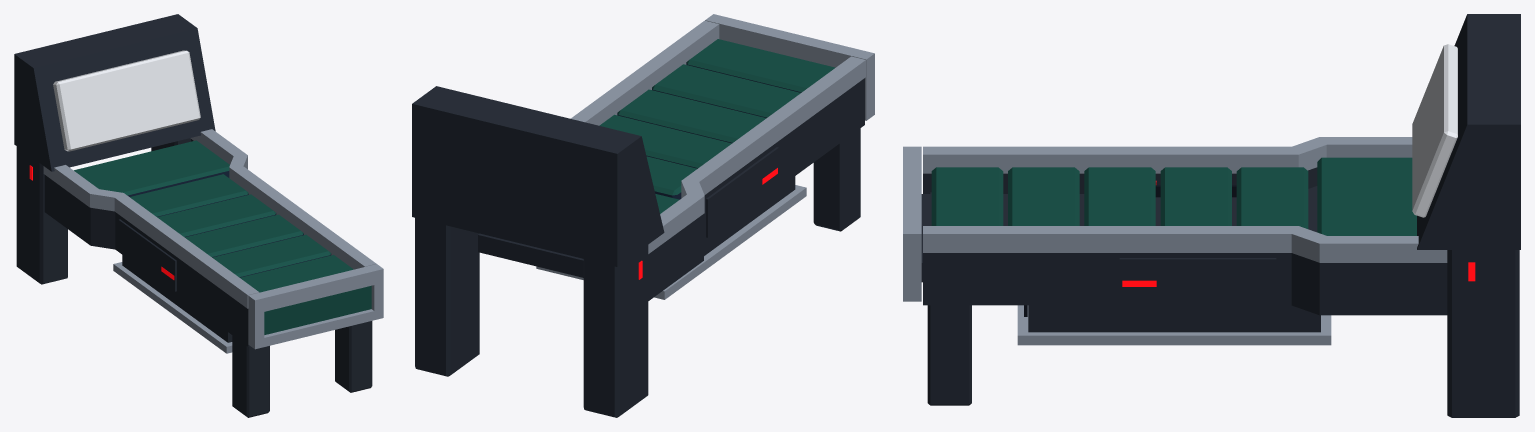
File: stasis_v3_normal.glb
3 renders of one model, left to right at view 1: azimuth 30°, elevation 25°; view 2: azimuth 150°, elevation 25°; view 3: azimuth 270°, elevation 25°, orthographic. The views are drawn at different scales.
Parts seen in each view (by area): view 1: Stasis_Head_Backplate, Stasis_Head_White_Plate, Stasis_Continuous_Fascia_-1, Stasis_Foot_Frame, Stasis_Level_Rail_-1, Stasis_Mattress_Head, Stasis_Leg.001, Stasis_Level_Rail_1, Stasis_Leg, Stasis_Mattress_Pad_01, Stasis_Mattress_Pad_03, Stasis_Mattress_Pad_02 (+7 smaller); view 2: Stasis_Head_Backplate, Stasis_Leg.001, Stasis_Leg.003, Stasis_Continuous_Fascia_-1, Stasis_Level_Rail_-1, Stasis_Mattress_Pad_02, Stasis_Mattress_Pad_01, Stasis_Mattress_Pad_00, Stasis_Foot_Frame, Stasis_Leg, Stasis_Level_Rail_1, Stasis_Mattress_Pad_03 (+5 smaller); view 3: Stasis_Continuous_Fascia_1, Stasis_Head_Backplate, Stasis_Level_Rail_1, Stasis_Leg.003, Stasis_Level_Rail_-1, Stasis_Underbody_Module, Stasis_Mattress_Head, Stasis_Service_Panel_1, Stasis_Head_White_Plate, Stasis_Underbody_Tray, Stasis_Leg.002, Stasis_Mattress_Pad_04 (+7 smaller).
Part boxes in pixels (x1,y1,x2,y2): Stasis_Head_Backplate: (14, 14, 215, 171); Stasis_Head_White_Plate: (53, 50, 200, 151); Stasis_Continuous_Fascia_-1: (44, 175, 250, 346); Stasis_Foot_Frame: (248, 264, 383, 349); Stasis_Level_Rail_-1: (43, 165, 259, 308); Stasis_Mattress_Head: (74, 140, 229, 196); Stasis_Leg.001: (16, 146, 67, 284); Stasis_Level_Rail_1: (190, 129, 376, 269); Stasis_Leg: (232, 335, 269, 417); Stasis_Mattress_Pad_01: (212, 234, 331, 277); Stasis_Mattress_Pad_03: (157, 194, 276, 237); Stasis_Mattress_Pad_02: (185, 214, 303, 257); Stasis_Head_Backplate: (412, 86, 664, 266); Stasis_Leg.001: (583, 245, 648, 417); Stasis_Leg.003: (415, 218, 479, 376); Stasis_Continuous_Fascia_-1: (648, 78, 864, 300); Stasis_Level_Rail_-1: (648, 56, 865, 253); Stasis_Mattress_Pad_02: (617, 89, 766, 143); Stasis_Mattress_Pad_01: (652, 64, 800, 117); Stasis_Mattress_Pad_00: (686, 39, 835, 92); Stasis_Foot_Frame: (705, 14, 874, 120); Stasis_Leg: (813, 128, 860, 231); Stasis_Level_Rail_1: (570, 20, 719, 125); Stasis_Mattress_Pad_03: (599, 114, 731, 168); Stasis_Continuous_Fascia_1: (923, 253, 1447, 315); Stasis_Head_Backplate: (1417, 14, 1520, 249); Stasis_Level_Rail_1: (923, 226, 1447, 262); Stasis_Leg.003: (1447, 250, 1519, 417); Stasis_Level_Rail_-1: (923, 137, 1412, 173); Stasis_Underbody_Module: (1028, 305, 1320, 332); Stasis_Mattress_Head: (1317, 157, 1416, 235); Stasis_Service_Panel_1: (1119, 258, 1276, 301); Stasis_Head_White_Plate: (1412, 44, 1457, 217); Stasis_Underbody_Tray: (1017, 305, 1331, 345); Stasis_Leg.002: (927, 305, 971, 405); Stasis_Mattress_Pad_04: (1236, 167, 1308, 228).
Size of the model in its own units: 1.14 by 1.39 by 2.64.
